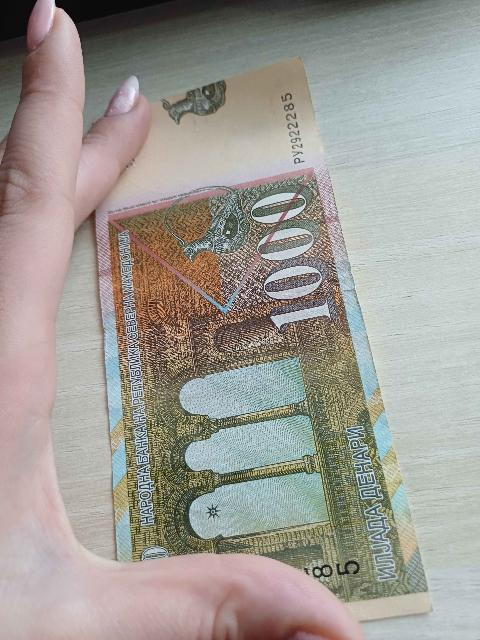1000_note: (97, 59, 429, 619)
